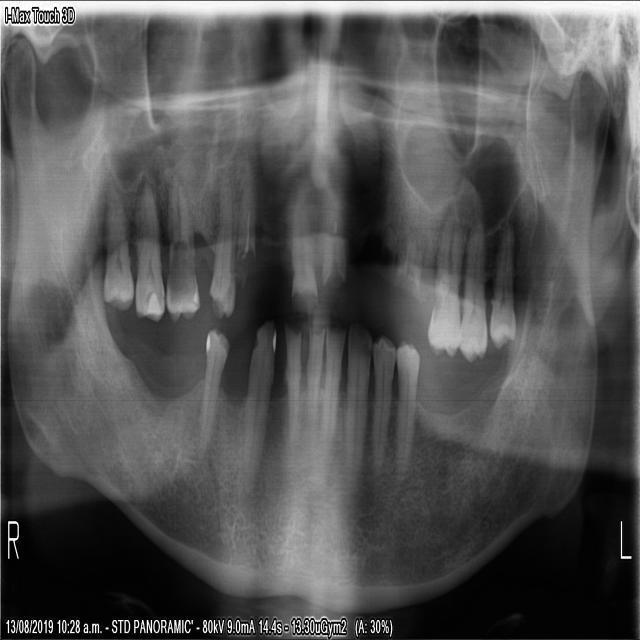LCD: (371, 334, 396, 469)
LID: (345, 322, 373, 472), (319, 323, 346, 445)
LIU: (318, 167, 349, 293)
LMU: (426, 212, 466, 358), (460, 219, 487, 364), (488, 222, 516, 350)
LPMD: (393, 343, 420, 474)
RCD: (240, 315, 278, 494)
RCU: (236, 158, 256, 274)
RID: (304, 322, 325, 455), (284, 320, 302, 440)
RIU: (290, 160, 319, 318)
RMU: (165, 173, 200, 323), (133, 177, 166, 324), (102, 215, 134, 314)
RPMD: (195, 325, 231, 462)
RPMU: (208, 164, 237, 319)
